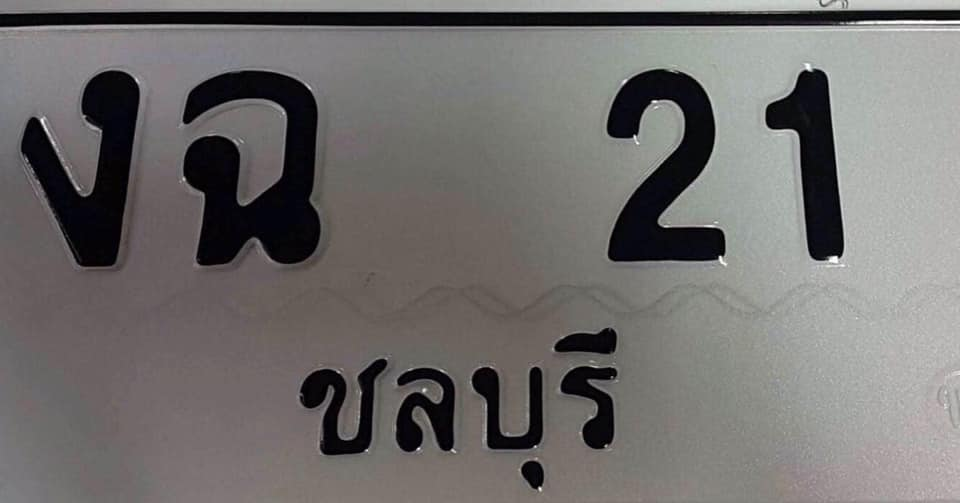txt05: (17, 64, 146, 275)
txt07: (173, 66, 328, 271)
